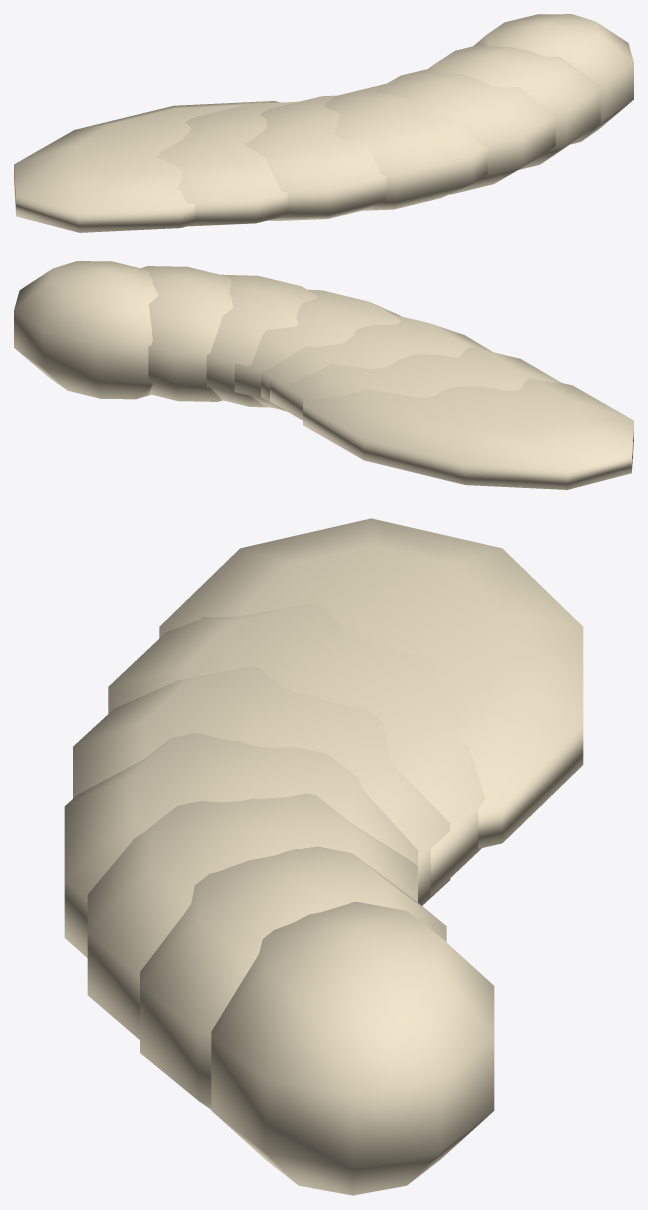
The model's file is sand-drift-cb1d7f27.glb.
3 renders of one model, top to bottom at view 1: azimuth 30°, elevation 25°; view 2: azimuth 150°, elevation 25°; view 3: azimuth 270°, elevation 25°, orthographic. The views are drawn at different scales.
Parts seen in each view (by area): view 1: sand-drift; view 2: sand-drift; view 3: sand-drift.
Part boxes in pixels (left/top/right/bottom): sand-drift: left=14, top=14, right=633, bottom=232; sand-drift: left=14, top=261, right=633, bottom=489; sand-drift: left=64, top=518, right=583, bottom=1195.
Bounding box in the file's own units: 5.39 × 0.9997 × 1.99.
